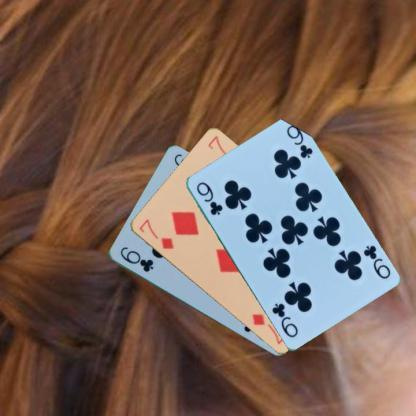6c: (117, 244, 155, 273)
7d: (136, 216, 174, 251)
9c: (360, 242, 392, 280), (193, 179, 224, 217)
